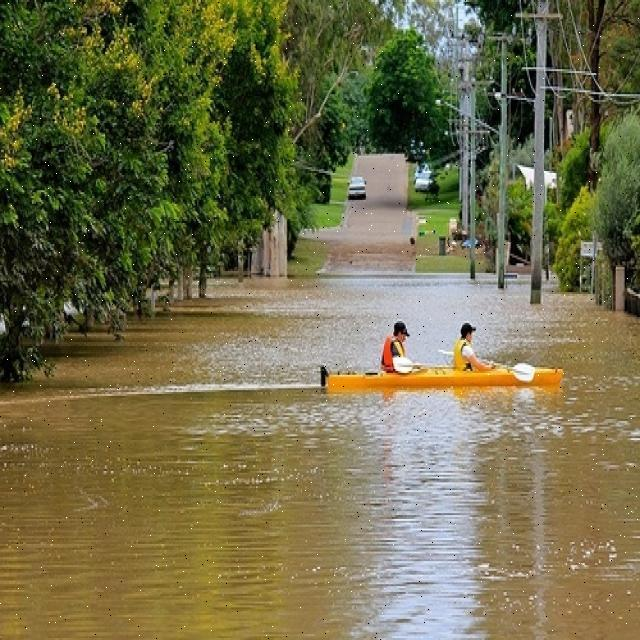rescuer: (378, 312, 416, 372), (455, 316, 483, 368)
